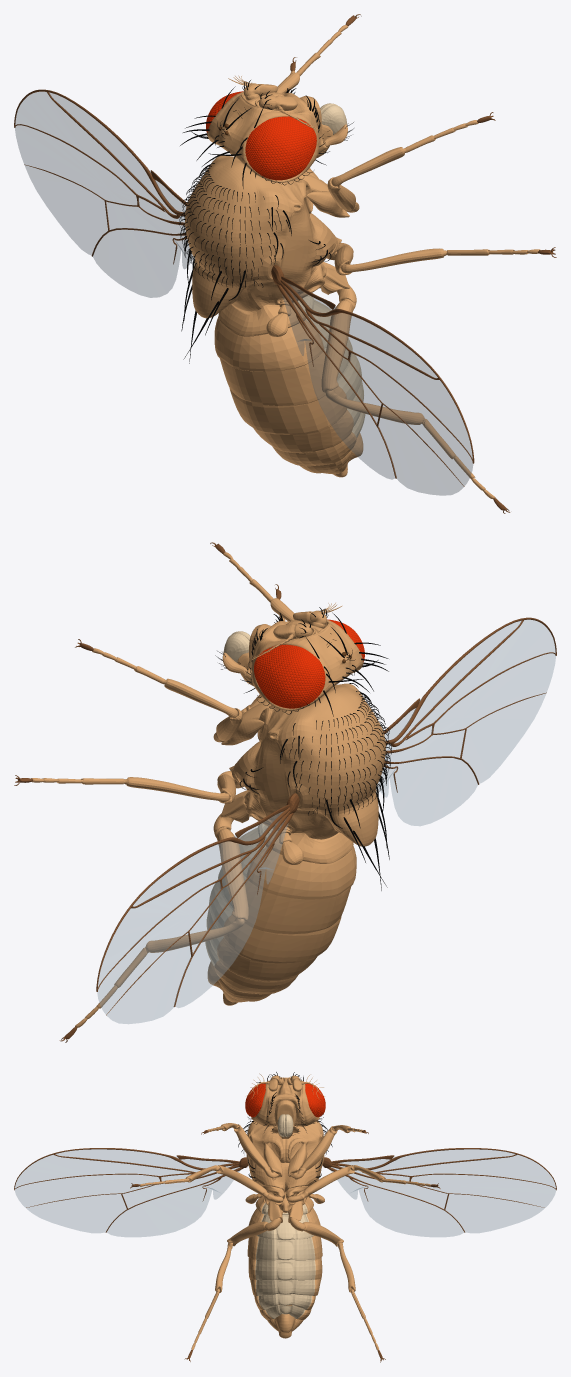
Rendered from fly.glb.
3 renders of one model, top to bottom at view 1: azimuth 30°, elevation 25°; view 2: azimuth 150°, elevation 25°; view 3: azimuth 270°, elevation 25°, orthographic. The views are drawn at different scales.
Parts seen in each view (by area): view 1: wing_right__wing_right_membrane, wing_left__wing_left_membrane, thorax__thorax, head__head_red, abdomen_2__abdomen_2, wing_right__wing_right_brown, abdomen_3__abdomen_3, head__head, abdomen_4__abdomen_4, thorax__thorax_black, wing_left__wing_left_brown, abdomen_5__abdomen_5 (+11 smaller); view 2: wing_left__wing_left_membrane, wing_right__wing_right_membrane, thorax__thorax, head__head_red, abdomen_2__abdomen_2, wing_left__wing_left_brown, abdomen_3__abdomen_3, head__head, abdomen_4__abdomen_4, thorax__thorax_black, wing_right__wing_right_brown, abdomen_5__abdomen_5 (+10 smaller); view 3: wing_right__wing_right_membrane, wing_left__wing_left_membrane, thorax__thorax, wing_left__wing_left_brown, wing_right__wing_right_brown, head__head, abdomen_3__abdomen_3_lower, abdomen_4__abdomen_4_lower, head__head_red, abdomen_5__abdomen_5_lower, abdomen_2__abdomen_2_lower, abdomen_6__abdomen_6_lower (+11 smaller).
Boxes of the visible parts, x1,y1,x2,y2 form: wing_right__wing_right_membrane: (282,283,472,495); wing_left__wing_left_membrane: (15,92,193,297); thorax__thorax: (185,155,336,318); head__head_red: (206,91,316,180); abdomen_2__abdomen_2: (214,316,323,371); wing_right__wing_right_brown: (271,265,474,486); abdomen_3__abdomen_3: (220,352,325,406); head__head: (207,91,319,182); abdomen_4__abdomen_4: (230,386,346,434); thorax__thorax_black: (179,159,331,363); wing_left__wing_left_brown: (14,89,187,264); abdomen_5__abdomen_5: (253,410,353,453); wing_left__wing_left_membrane: (97,811,287,1023); wing_right__wing_right_membrane: (377,620,555,825); thorax__thorax: (233,683,385,846); head__head_red: (254,619,364,708); abdomen_2__abdomen_2: (246,846,356,899); wing_left__wing_left_brown: (96,793,299,1015); abdomen_3__abdomen_3: (244,880,351,934); head__head: (251,620,363,711); abdomen_4__abdomen_4: (223,915,341,963); thorax__thorax_black: (239,683,391,890); wing_right__wing_right_brown: (383,617,556,792); abdomen_5__abdomen_5: (217,938,317,981); wing_right__wing_right_membrane: (15,1149,239,1236); wing_left__wing_left_membrane: (331,1149,555,1236); thorax__thorax: (246,1120,324,1212); wing_left__wing_left_brown: (322,1148,556,1232); wing_right__wing_right_brown: (14,1148,248,1232); head__head: (251,1077,319,1126); abdomen_3__abdomen_3_lower: (256,1237,315,1260); abdomen_4__abdomen_4_lower: (255,1259,315,1280); head__head_red: (245,1082,325,1117); abdomen_5__abdomen_5_lower: (256,1279,315,1295); abdomen_2__abdomen_2_lower: (257,1214,313,1239); abdomen_6__abdomen_6_lower: (258,1294,312,1309).
Size of the model in its own units: 0.1851 by 0.3012 by 0.6116.
